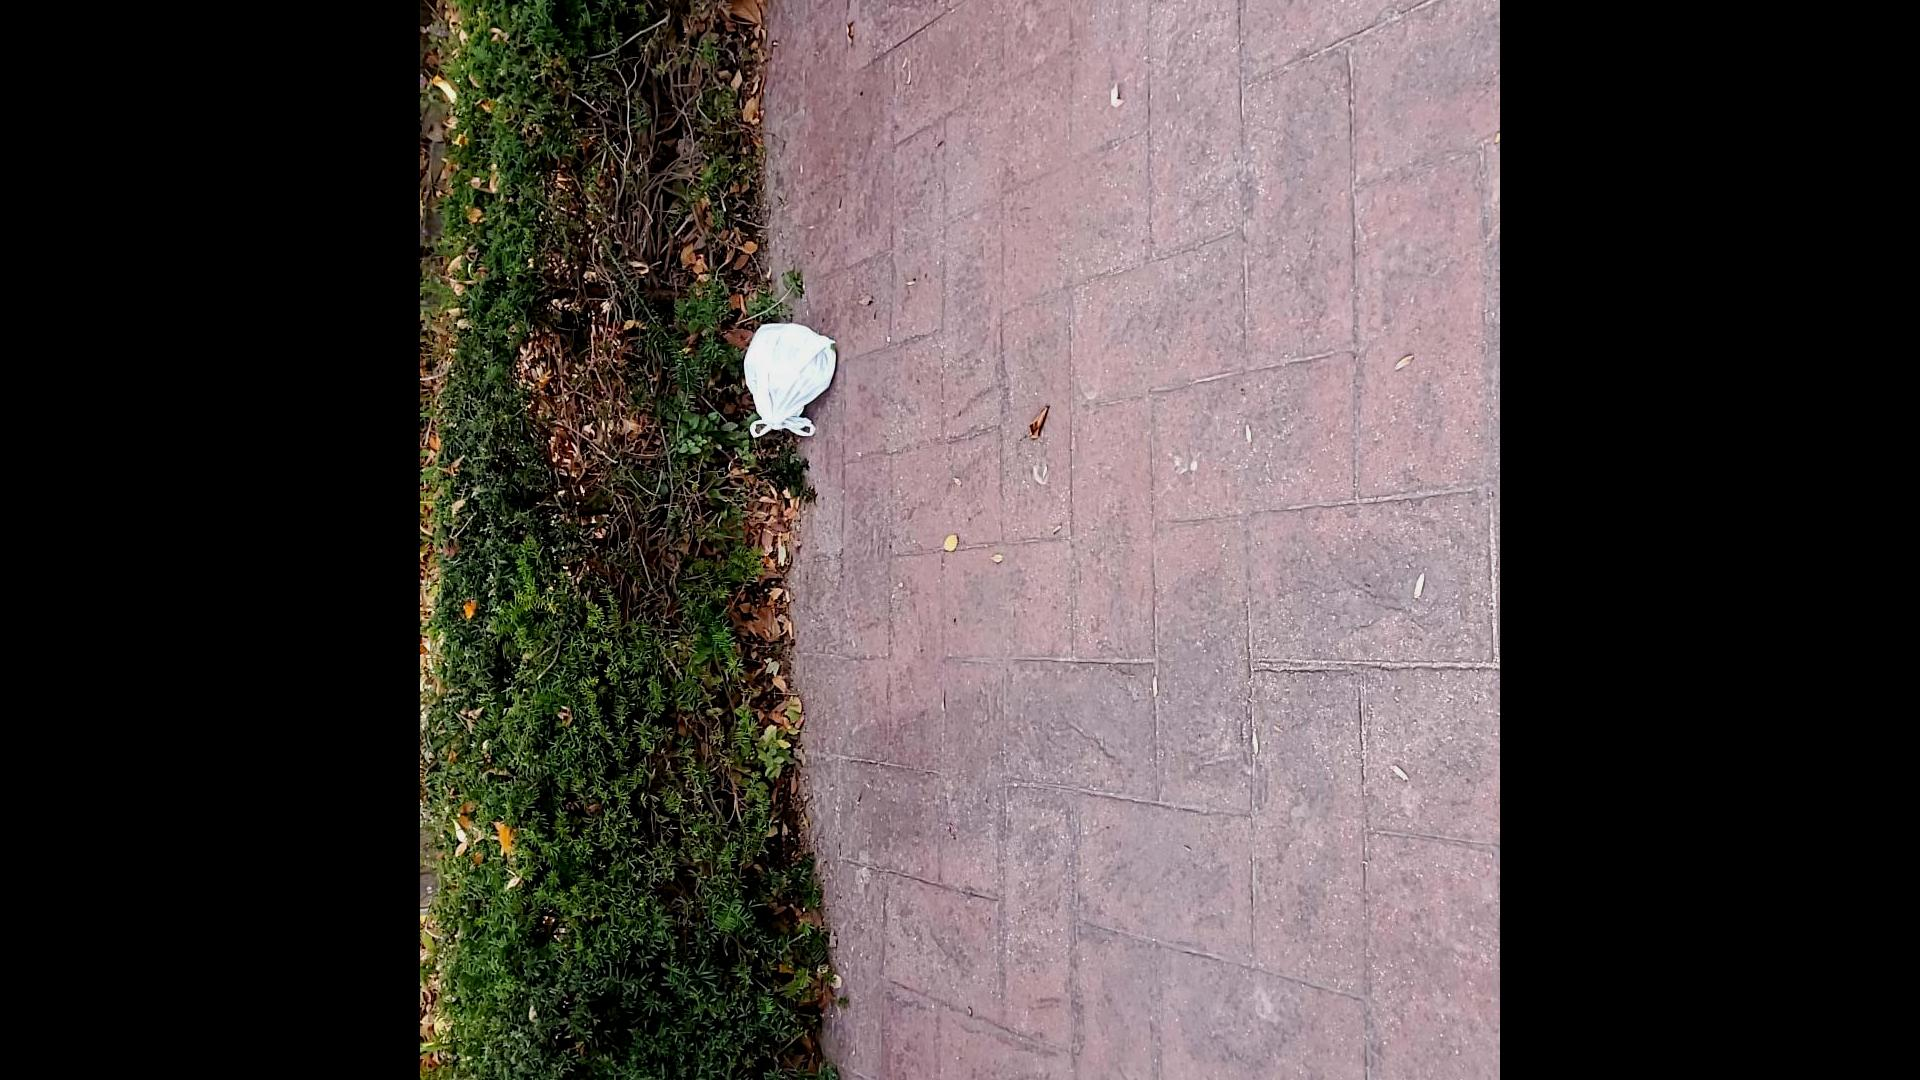white_bag: (746, 313, 847, 450)
